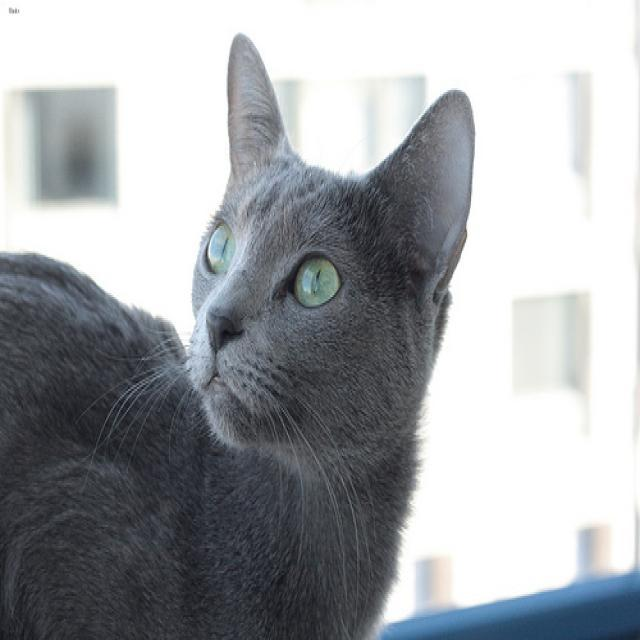Russian_Blue: (175, 24, 483, 490)
